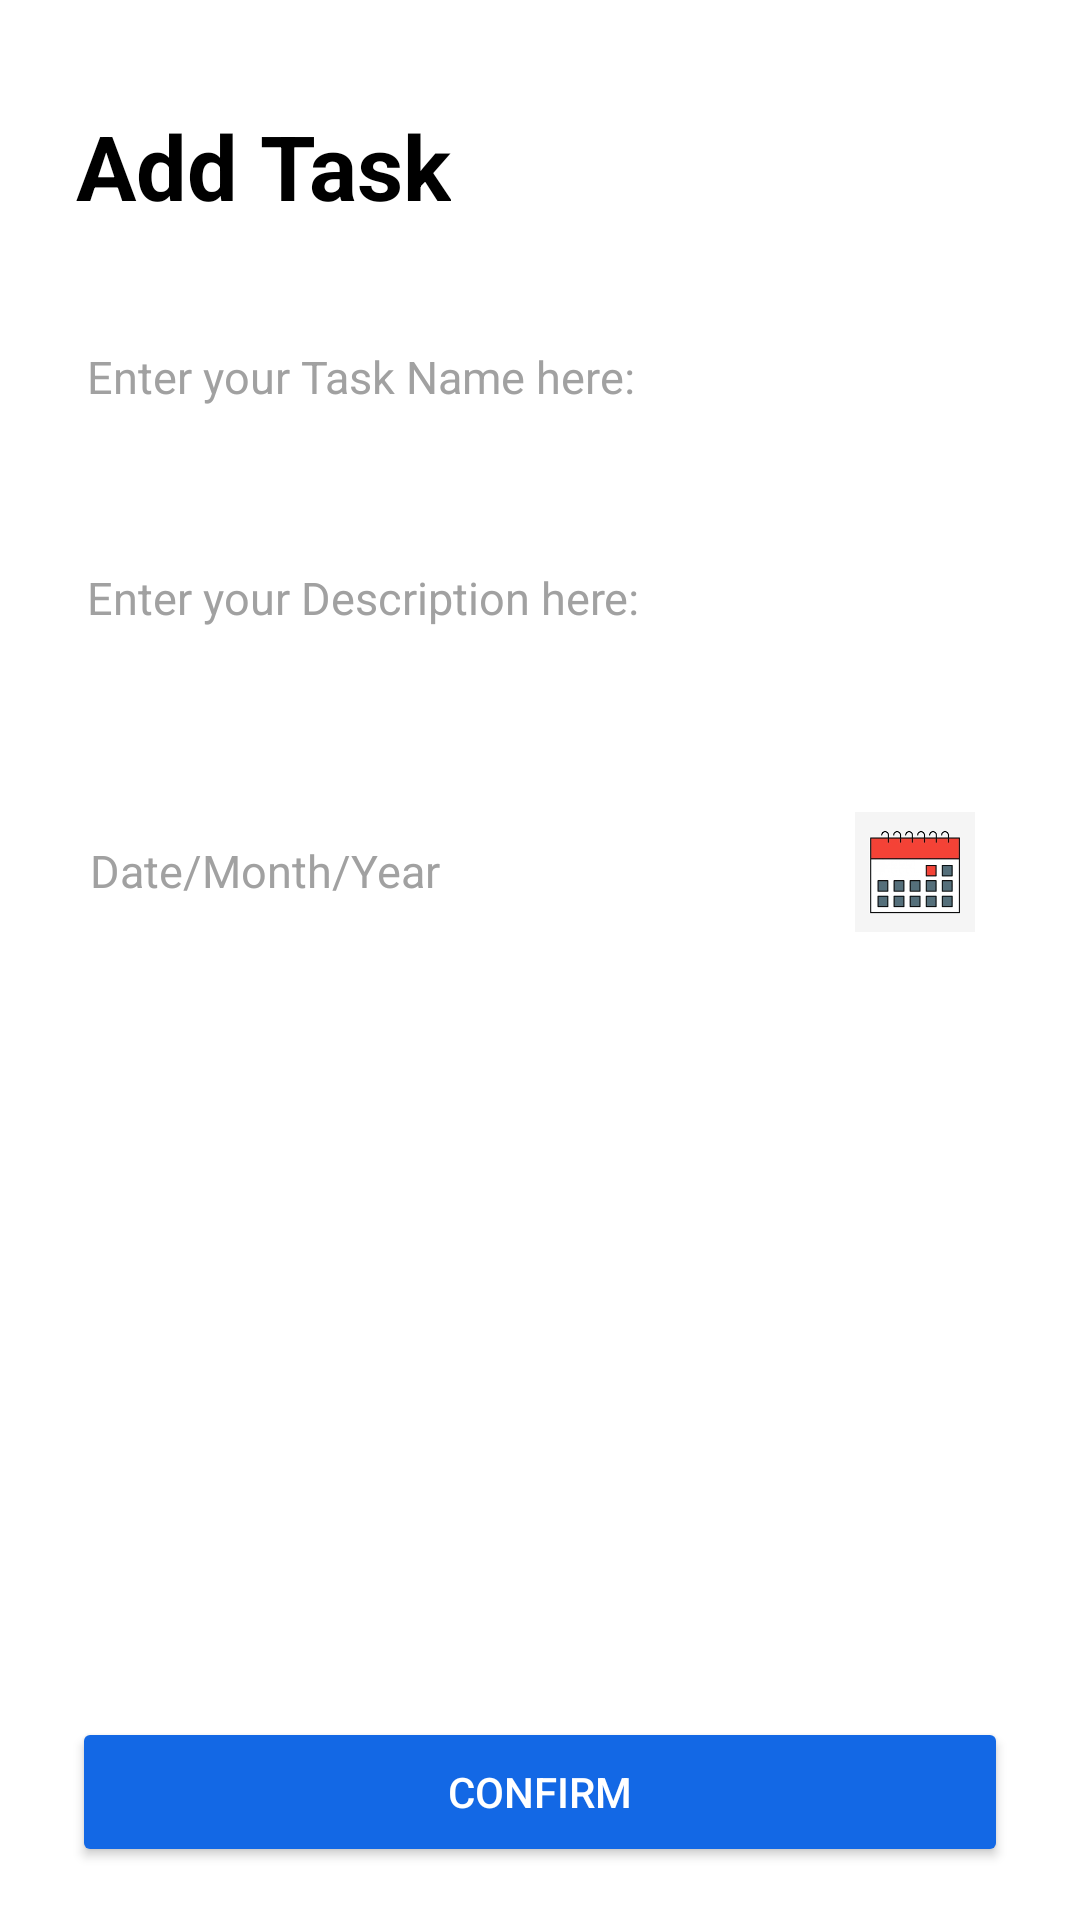

Named icons in this screenshot (1080px×1920px) and their centers, [x,y]:
calender: [915,872]
